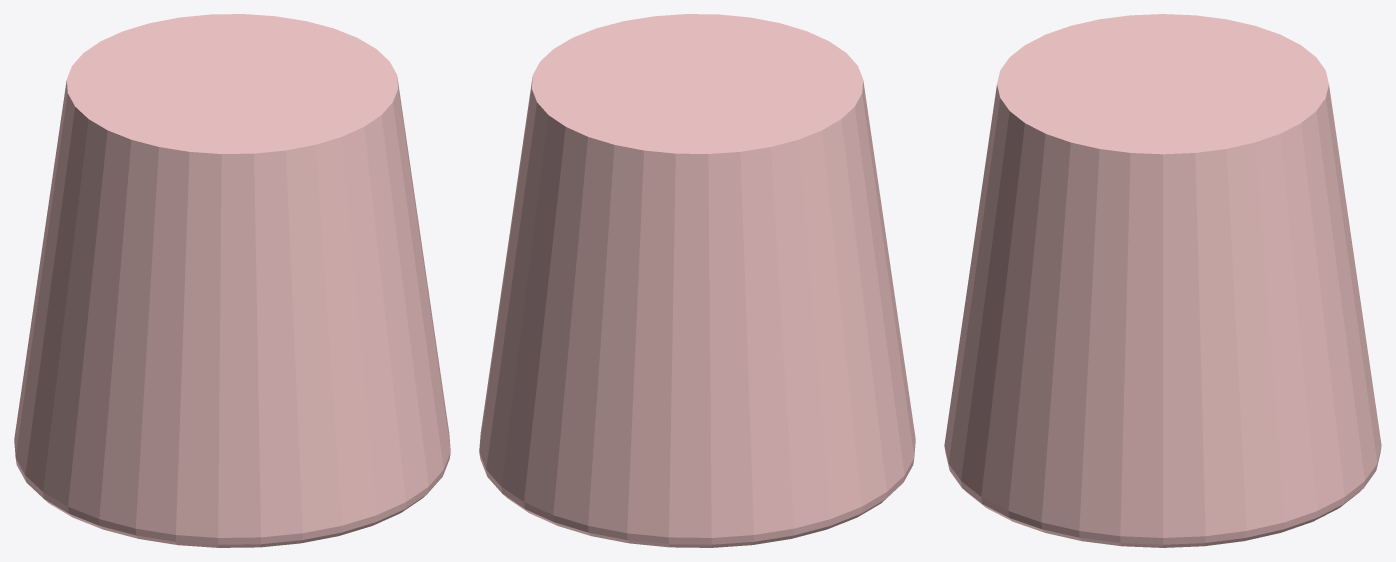
Rendered from pipe.glb.
The picture shows the model from 3 angles, left to right: view 1: azimuth 30°, elevation 25°; view 2: azimuth 150°, elevation 25°; view 3: azimuth 270°, elevation 25°; orthographic projection.
Visible parts, largest first — view 1: Cylinder.001; view 2: Cylinder.001; view 3: Cylinder.001.
Part boxes in pixels (x1,y1,x2,y2): Cylinder.001: [14, 14, 450, 547]; Cylinder.001: [479, 14, 915, 547]; Cylinder.001: [944, 14, 1381, 547].
Size of the model in its own units: 0.1581 by 0.15 by 0.1581.
